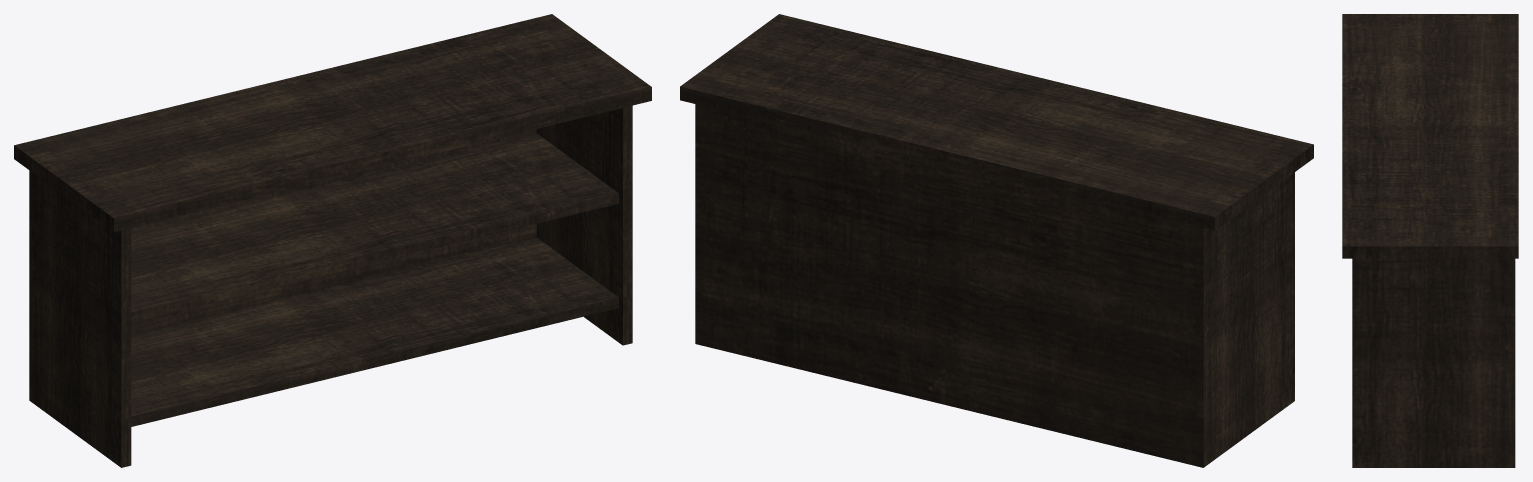
File: tv_table_1_2.obj
3 renders of one model, left to right at view 1: azimuth 30°, elevation 25°; view 2: azimuth 150°, elevation 25°; view 3: azimuth 270°, elevation 25°, orthographic. The views are drawn at different scales.
Visible parts, largest first — view 1: tv_table_1_2; view 2: tv_table_1_2; view 3: tv_table_1_2.
Boxes of the visible parts, x1,y1,x2,y2 form: tv_table_1_2: (14,14,651,467); tv_table_1_2: (680,14,1313,467); tv_table_1_2: (1342,14,1518,467).
Bounding box in the file's own units: 1.62 × 0.74 × 0.52.
